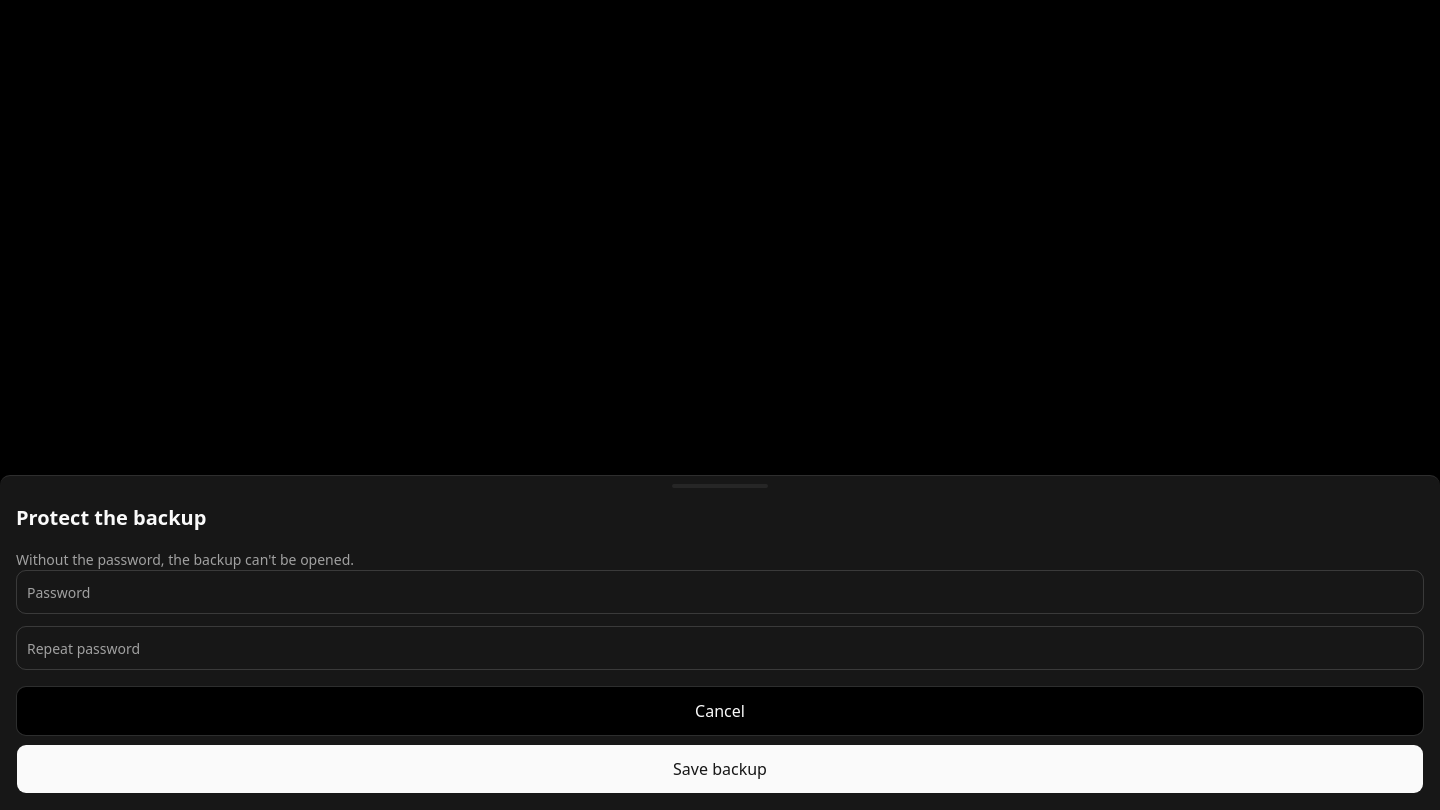
Scenario: BackupPasswordDrawer choosing a password › refuses a repeat that doesn't match
This screenshot has width=1440, height=810.
Type "long enough" into the password field labelled "Password" at (720, 592), box [16, 570, 1424, 614]
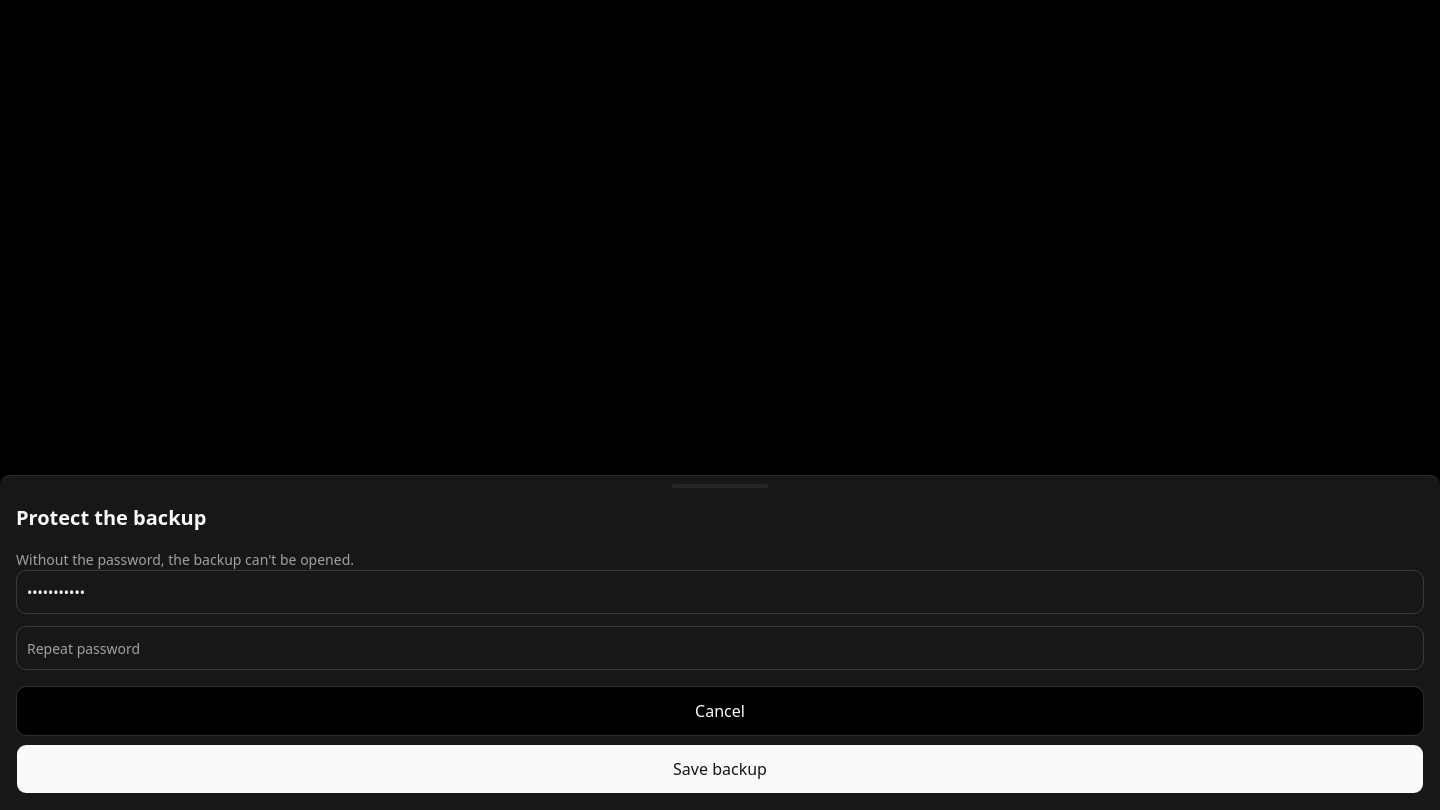
Type "long enougH" into the password field labelled "Repeat password" at (720, 648), box [16, 626, 1424, 670]
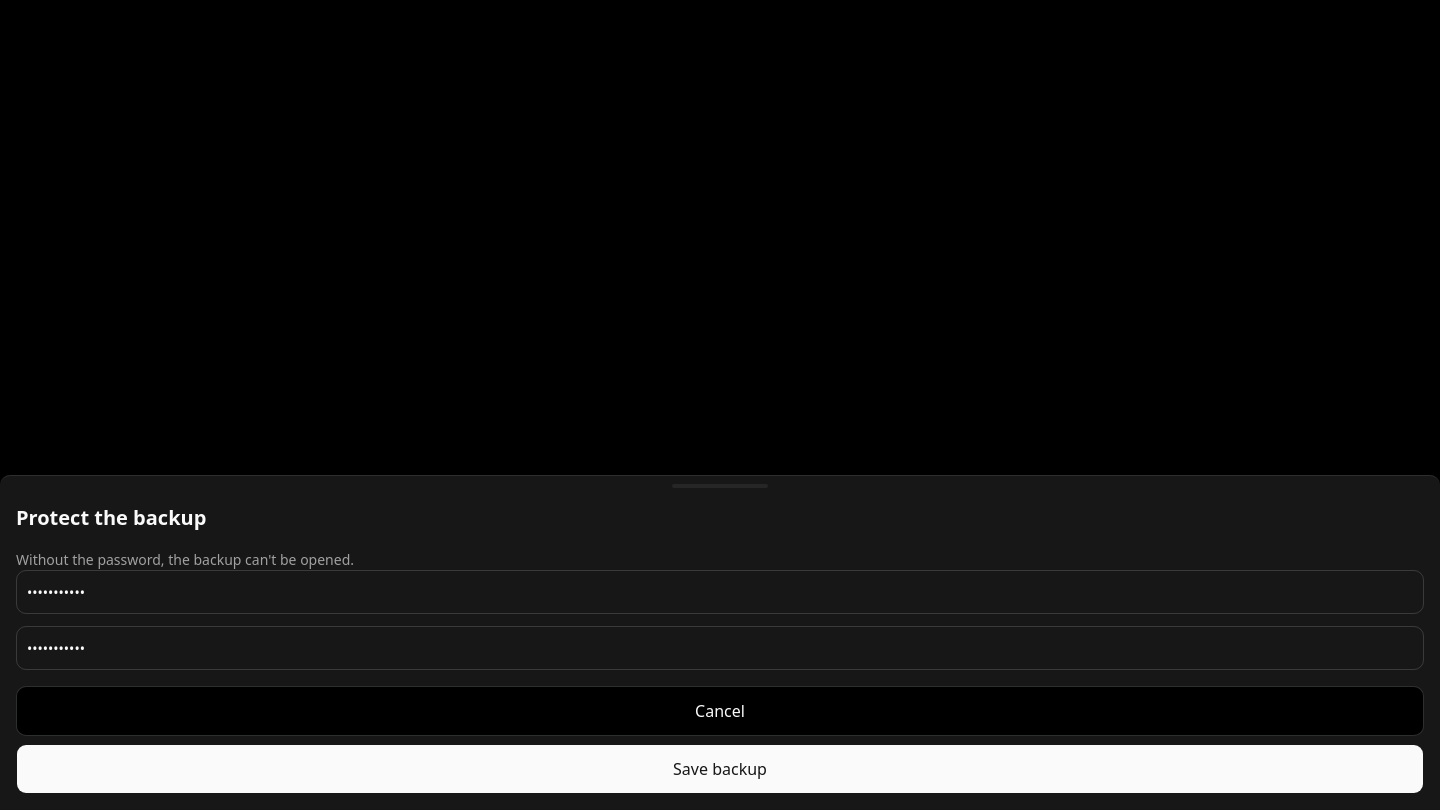
Click the button "Save backup" at (720, 769), box [16, 744, 1424, 794]
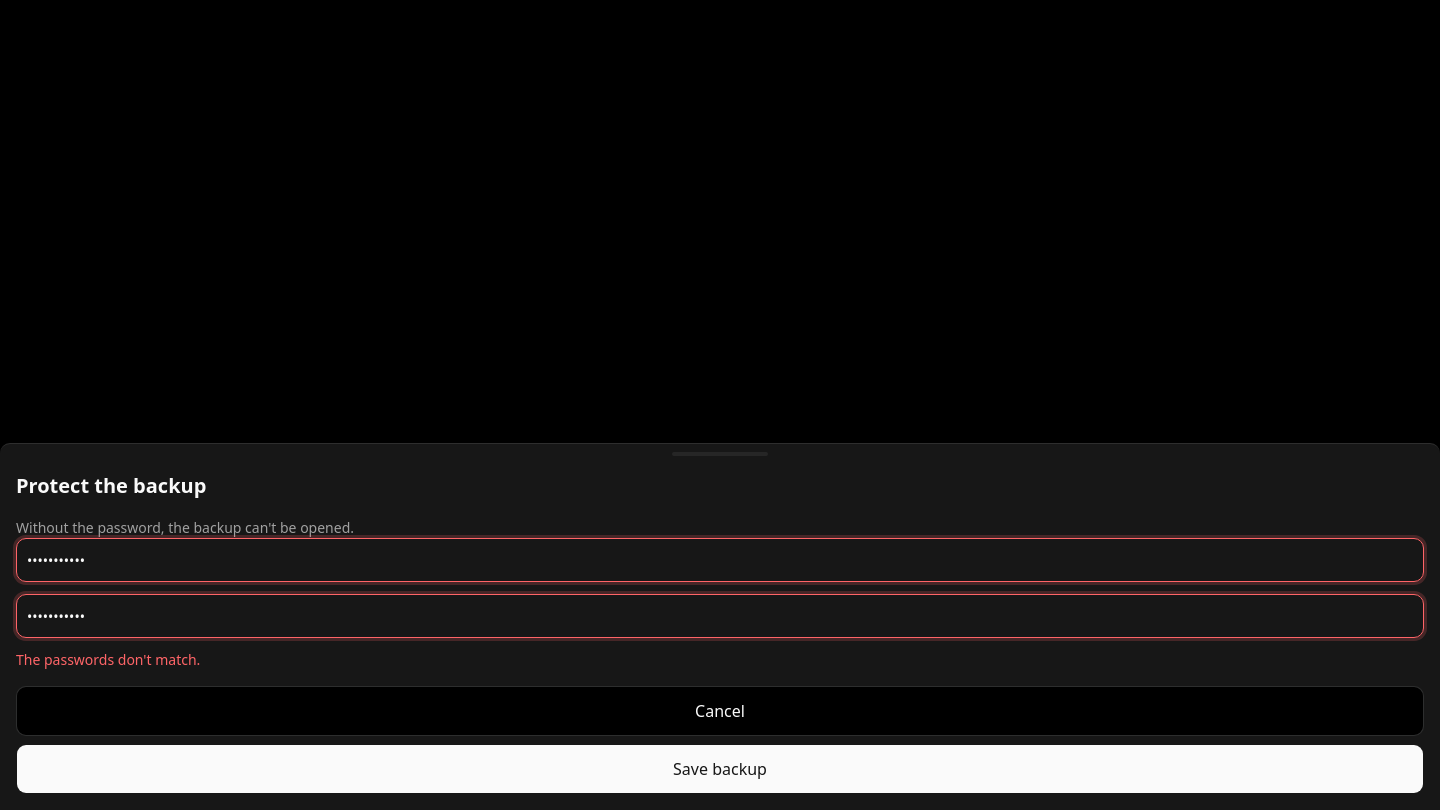
Result: the text "The passwords don't match." is shown at [16, 650, 200, 669]
